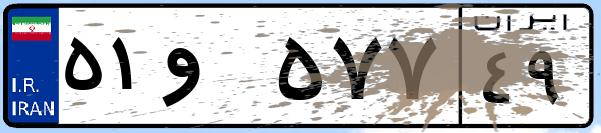1: (110, 28, 158, 98)
4: (475, 38, 525, 113)
5: (270, 28, 330, 110), (57, 26, 110, 100)
7: (385, 28, 445, 110), (330, 28, 385, 110)
9: (525, 38, 570, 115)
و: (158, 20, 270, 120)
